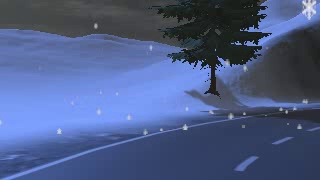Lane: (6, 105, 319, 179)
